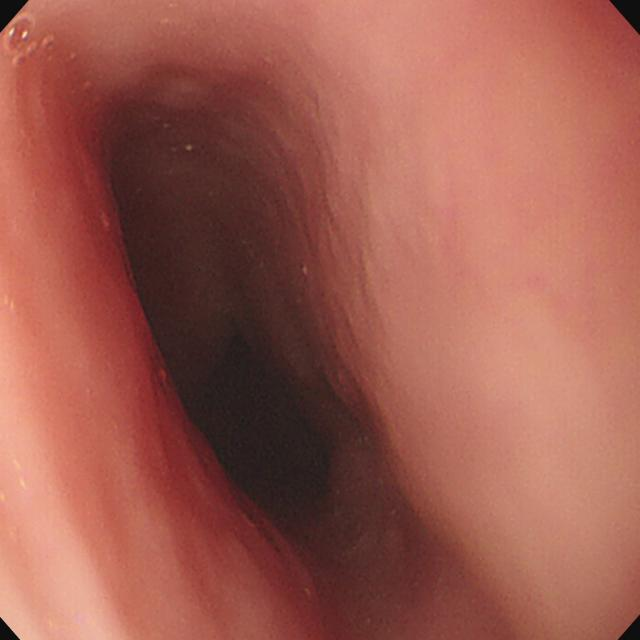E: (218, 381, 322, 507)
J: (186, 144, 196, 155)
T: (6, 17, 35, 55)
